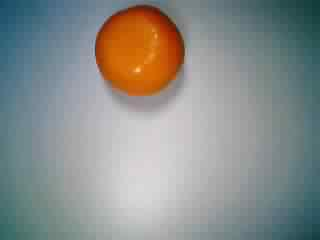orange: (90, 3, 186, 99)
